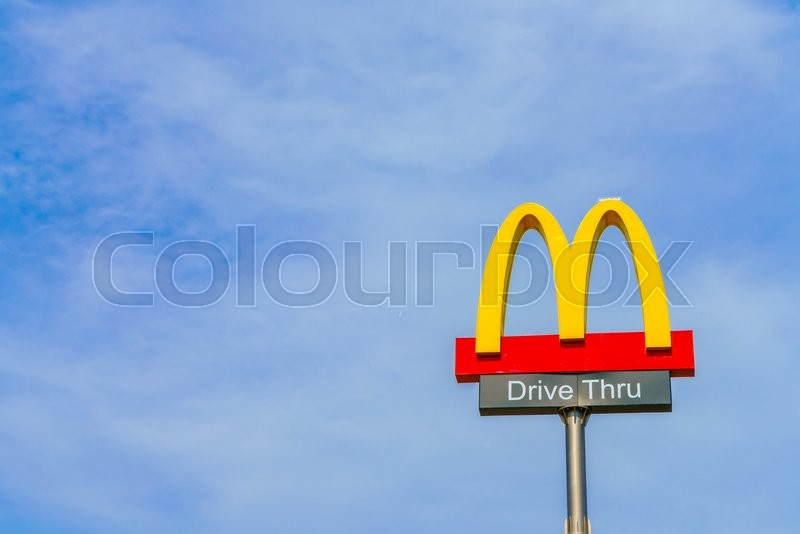mcdonalds: (472, 194, 670, 349)
